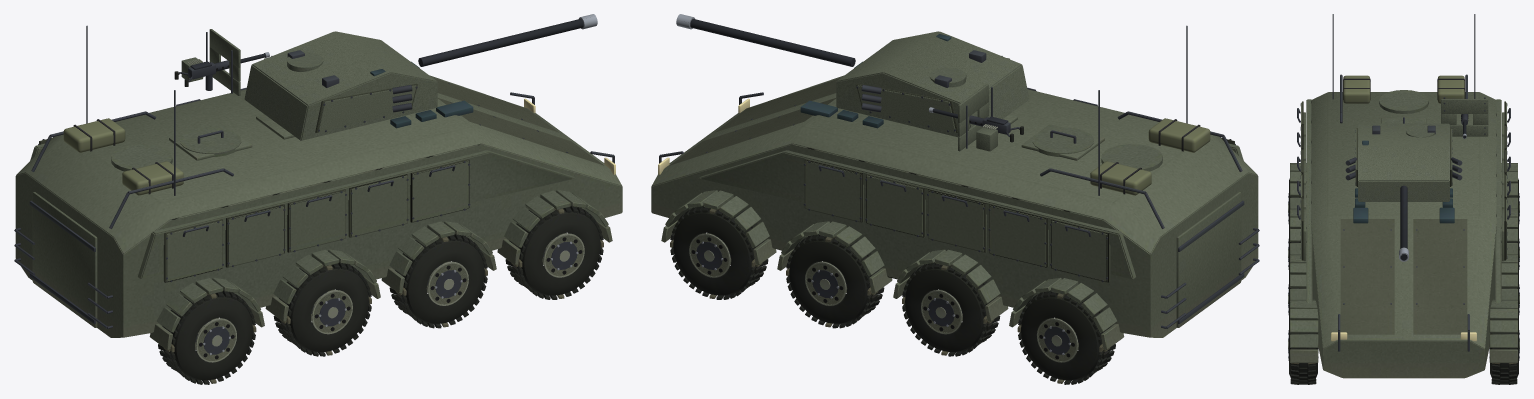
The model's file is apc.glb.
3 renders of one model, left to right at view 1: azimuth 30°, elevation 25°; view 2: azimuth 150°, elevation 25°; view 3: azimuth 270°, elevation 25°, orthographic. The views are drawn at different scales.
Visible parts, largest first — view 1: body, turret, wheel_3, wheel_0, wheel_1, wheel_2, cannon, gun_shield, gun; view 2: body, turret, wheel_7, wheel_4, wheel_5, wheel_6, cannon, gun_shield, gun; view 3: body, turret, gun_shield, wheel_3, wheel_7, cannon.
Boxes of the visible parts, left/top/right/bottom form: body: left=14, top=25, right=622, bottom=349; turret: left=244, top=31, right=437, bottom=140; wheel_3: left=505, top=206, right=603, bottom=299; wheel_0: left=158, top=290, right=256, bottom=384; wheel_1: left=273, top=262, right=371, bottom=356; wheel_2: left=389, top=234, right=487, bottom=328; cannon: left=418, top=14, right=597, bottom=66; gun_shield: left=206, top=29, right=240, bottom=95; gun: left=174, top=52, right=269, bottom=90; body: left=651, top=25, right=1259, bottom=349; turret: left=836, top=31, right=1029, bottom=137; wheel_7: left=670, top=206, right=768, bottom=299; wheel_4: left=1017, top=290, right=1115, bottom=384; wheel_5: left=902, top=262, right=1000, bottom=356; wheel_6: left=786, top=234, right=884, bottom=328; cannon: left=676, top=14, right=855, bottom=66; gun_shield: left=958, top=84, right=992, bottom=151; gun: left=929, top=107, right=1023, bottom=151; body: left=1290, top=14, right=1517, bottom=378; turret: left=1345, top=123, right=1462, bottom=201; gun_shield: left=1441, top=97, right=1488, bottom=136; wheel_3: left=1288, top=315, right=1318, bottom=384; wheel_7: left=1489, top=315, right=1519, bottom=384; cannon: left=1399, top=185, right=1408, bottom=261.
Size of the model in its own units: 7.38 by 3.66 by 3.44.
6 materials, 6 textured.
